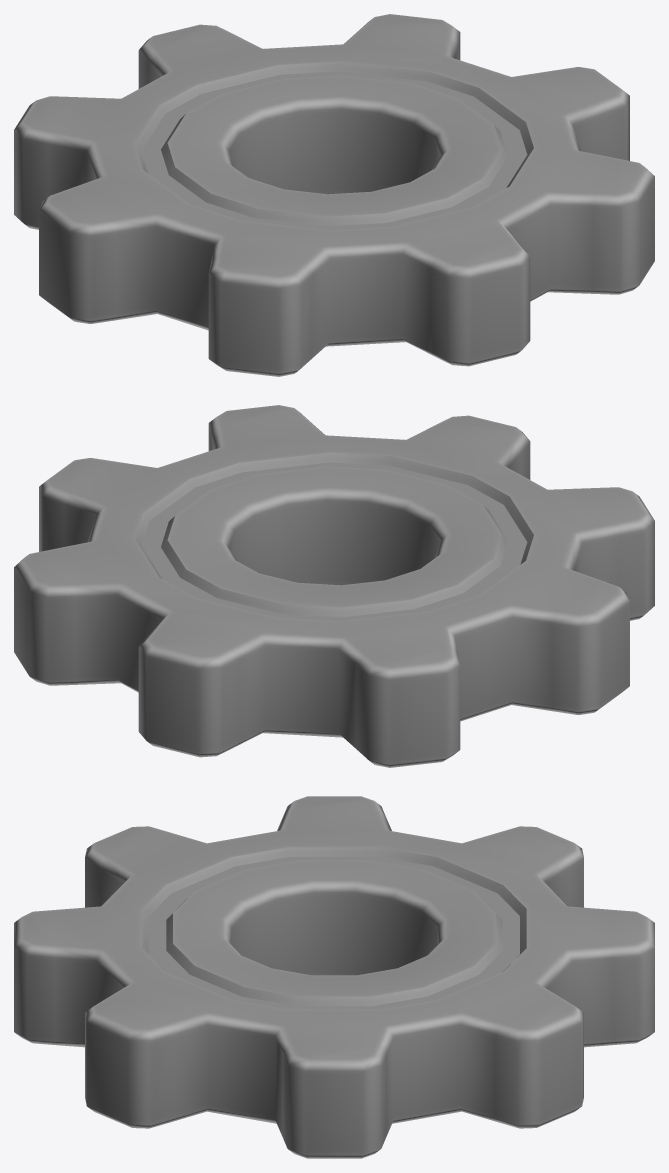
File: gear_grey.fbx
3 renders of one model, top to bottom at view 1: azimuth 30°, elevation 25°; view 2: azimuth 150°, elevation 25°; view 3: azimuth 270°, elevation 25°, orthographic.
Parts seen in each view (by area): view 1: pGear3; view 2: pGear3; view 3: pGear3.
Part boxes in pixels (<box>): pGear3: <box>14,14,654,376</box>; pGear3: <box>14,405,654,767</box>; pGear3: <box>14,796,654,1158</box>.
Size of the model in its own units: 0.7882 by 0.133 by 0.7882.
